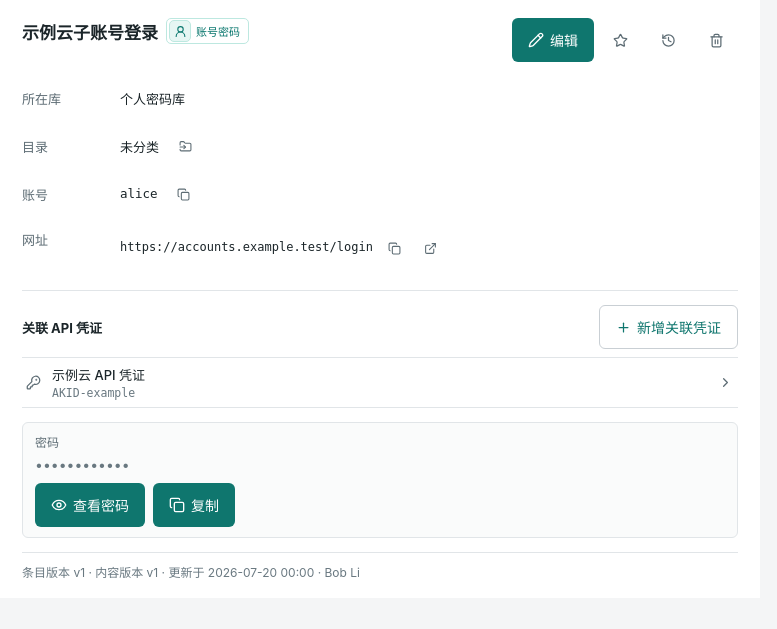
ItemDetail credential relations › aggregates linked credentials and opens a prelinked create form
expect the heading "关联 API 凭证" is shown: met, box [22, 318, 102, 336]
expect the button "示例云 API 凭证 AKID-example" is shown: met, box [22, 358, 738, 407]
Click the button "新增关联凭证" at (668, 327), box [599, 305, 738, 349]
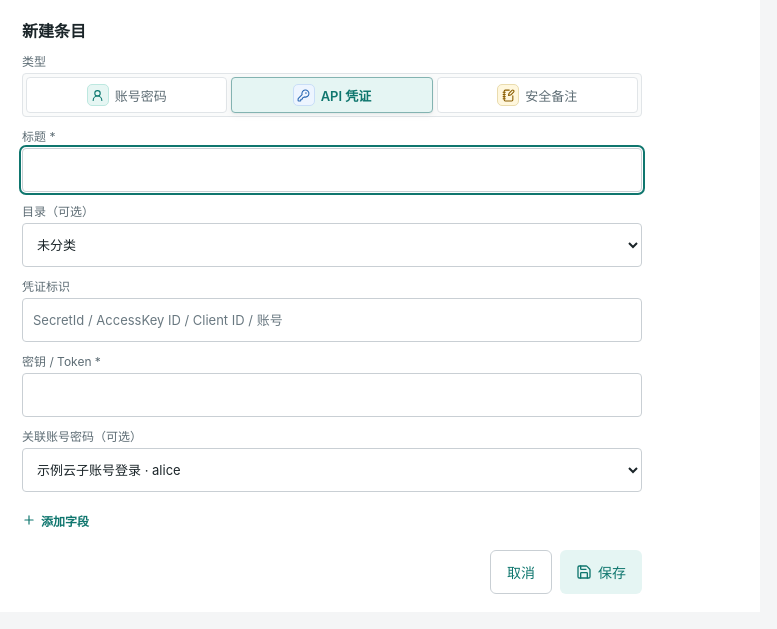
expect the heading "新建条目" is shown: met, box [22, 18, 86, 42]
expect the dropdown labelled "关联账号密码（可选）" shows "示例云子账号登录 · alice": met, box [22, 448, 642, 492]
